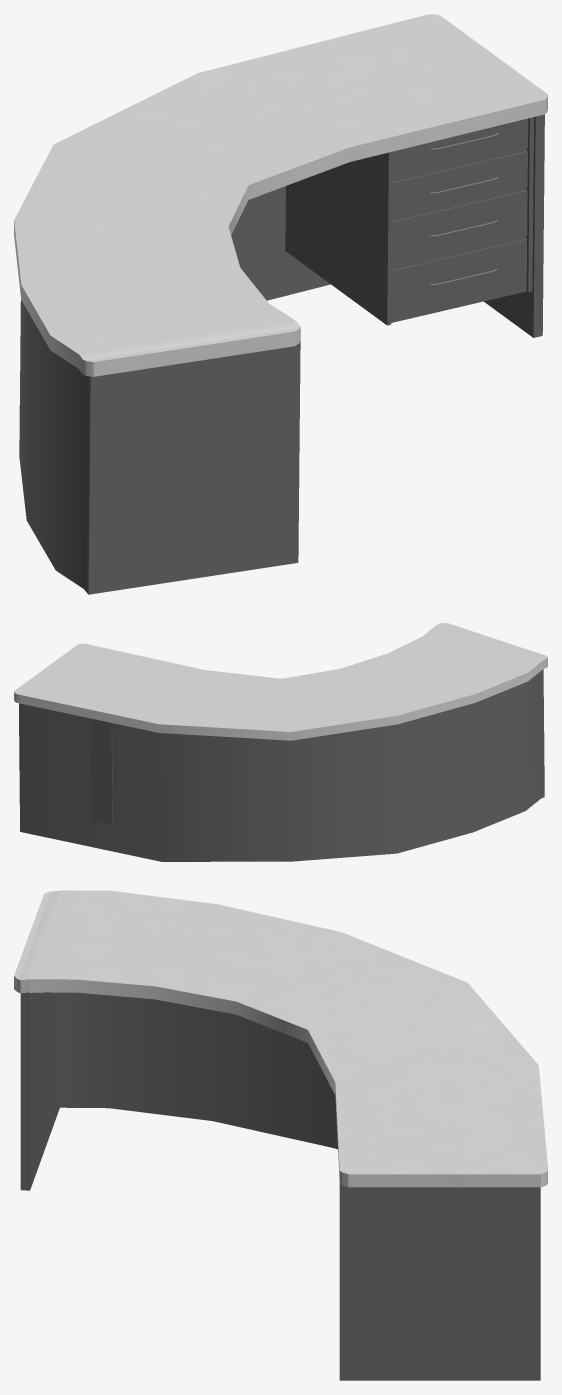
File: camera room turn table.fbx
3 views of the same model, one above another, from view 1: azimuth 30°, elevation 25°; view 2: azimuth 150°, elevation 25°; view 3: azimuth 270°, elevation 25° (orthographic). The views are drawn at different scales.
Parts seen in each view (by area): view 1: pCube154; view 2: pCube154; view 3: pCube154.
Part boxes in pixels (<box>): pCube154: <box>14,14,547,594</box>; pCube154: <box>14,623,547,861</box>; pCube154: <box>14,890,547,1380</box>.
Size of the model in its own units: 2.73 by 1.02 by 2.24.
1 material, 1 textured.
